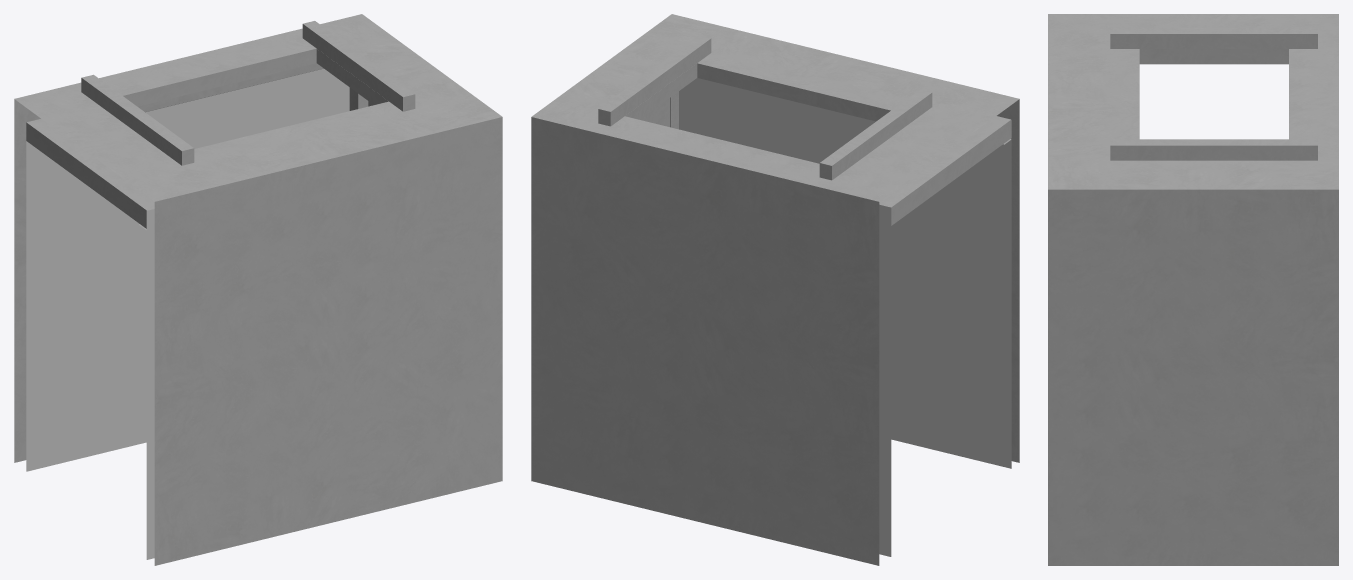
Rendered from Corridor_Corner 1.fbx.
The picture shows the model from 3 angles, left to right: view 1: azimuth 30°, elevation 25°; view 2: azimuth 150°, elevation 25°; view 3: azimuth 270°, elevation 25°; orthographic projection. The views are drawn at different scales.
Parts seen in each view (by area): view 1: Corridor_Corner; view 2: Corridor_Corner; view 3: Corridor_Corner.
Boxes of the visible parts, x1,y1,x2,y2 form: Corridor_Corner: (14,14,502,565); Corridor_Corner: (531,14,1019,565); Corridor_Corner: (1048,14,1338,565).
Size of the model in its own units: 5 by 5.2 by 3.5.
